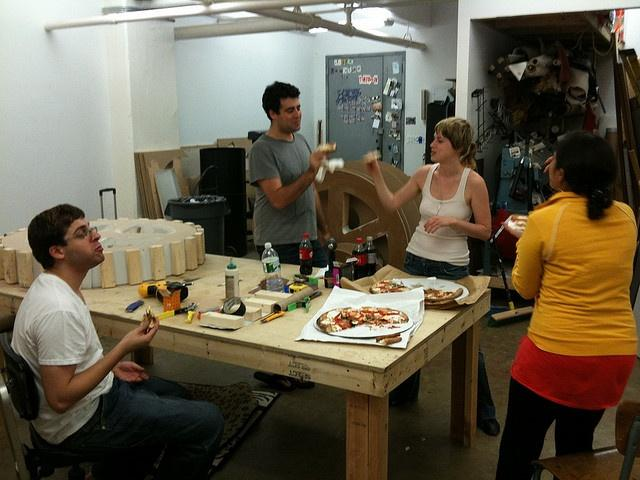Meja: (79, 252, 491, 412)
